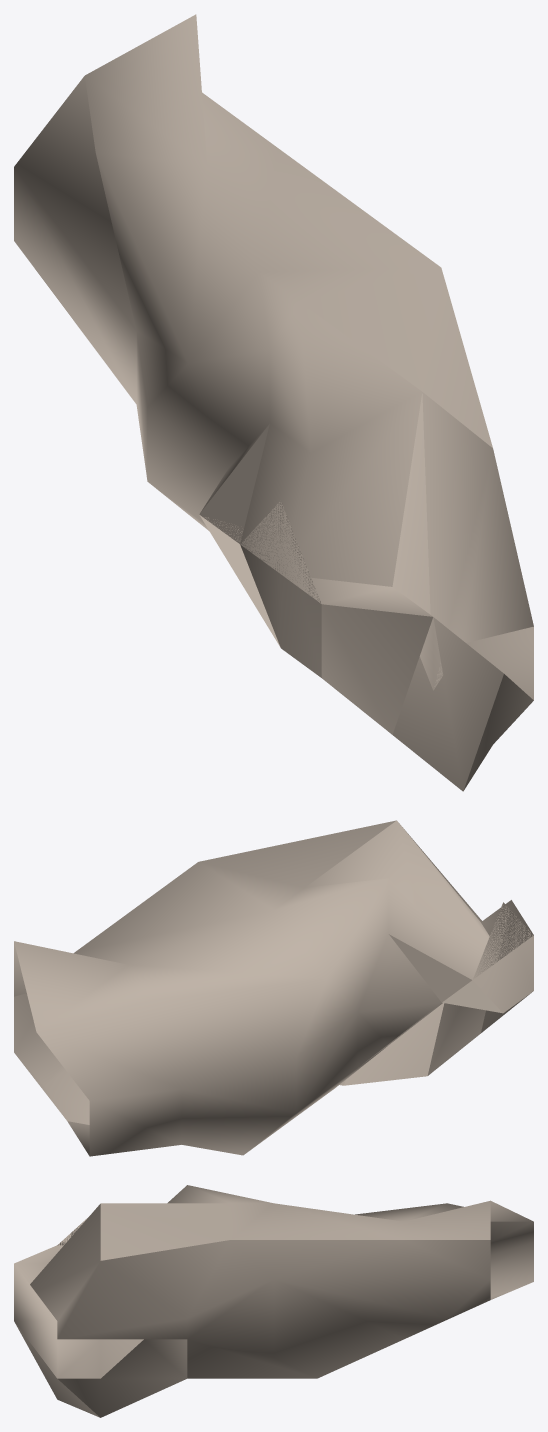
File: m_jet_8b0fe7d1.glb
3 renders of one model, top to bottom at view 1: azimuth 30°, elevation 25°; view 2: azimuth 150°, elevation 25°; view 3: azimuth 270°, elevation 25°, orthographic. The views are drawn at different scales.
Visible parts, largest first — view 1: mesh; view 2: mesh; view 3: mesh.
Boxes of the visible parts, box(x1,y1,x2,y2) form: mesh: box(14, 14, 533, 791); mesh: box(14, 820, 533, 1156); mesh: box(14, 1185, 533, 1417).
Bounding box in the file's own units: 4 × 6 × 12.
